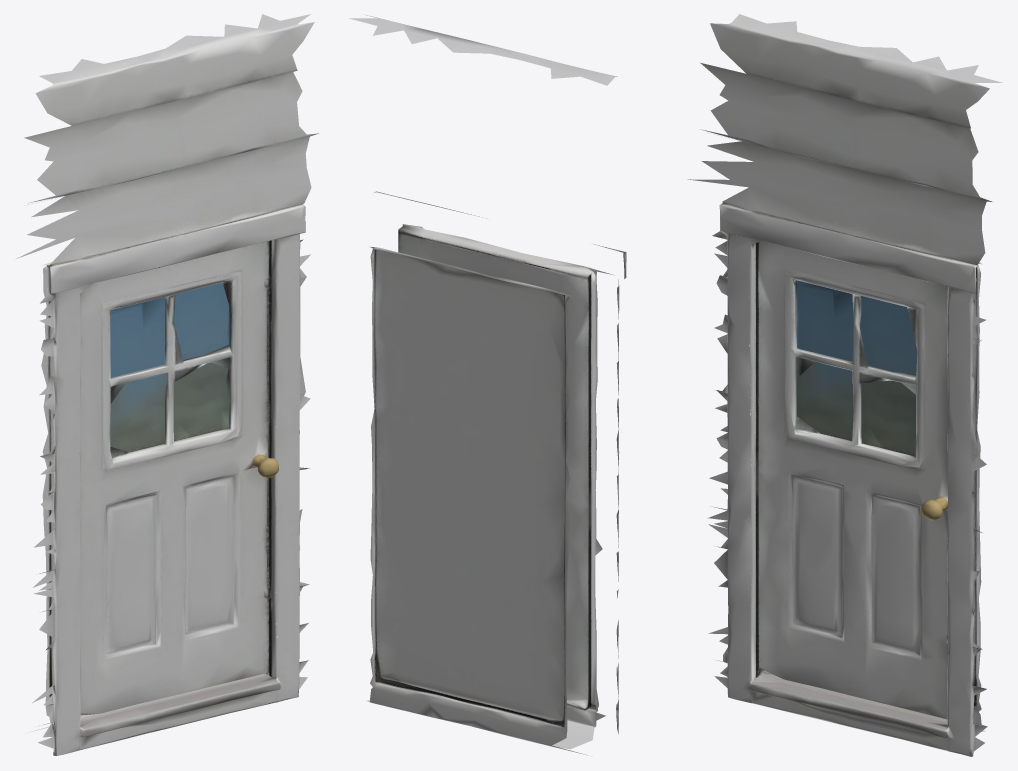
The model's file is kit-wall-door.glb.
3 renders of one model, left to right at view 1: azimuth 30°, elevation 25°; view 2: azimuth 150°, elevation 25°; view 3: azimuth 330°, elevation 25°, orthographic. The views are drawn at different scales.
Visible parts, largest first — view 1: leaf, siding, trim; view 2: leaf, siding, trim; view 3: leaf, siding, trim.
Boxes of the visible parts, left/top/right/bottom form: leaf: left=23, top=239, right=280, bottom=750; siding: left=16, top=14, right=318, bottom=263; trim: left=32, top=188, right=311, bottom=755; leaf: left=366, top=224, right=614, bottom=755; siding: left=349, top=15, right=617, bottom=85; trim: left=374, top=191, right=626, bottom=734; leaf: left=736, top=235, right=985, bottom=751; siding: left=687, top=14, right=1002, bottom=255; trim: left=707, top=201, right=987, bottom=756.
Bounding box in the file's own units: 1.43 × 3 × 0.3382.
Materials: 2 (2 with a texture image).
